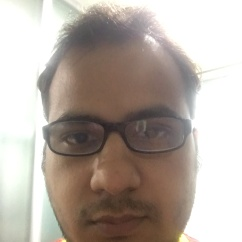glasses: (41, 118, 190, 154)
